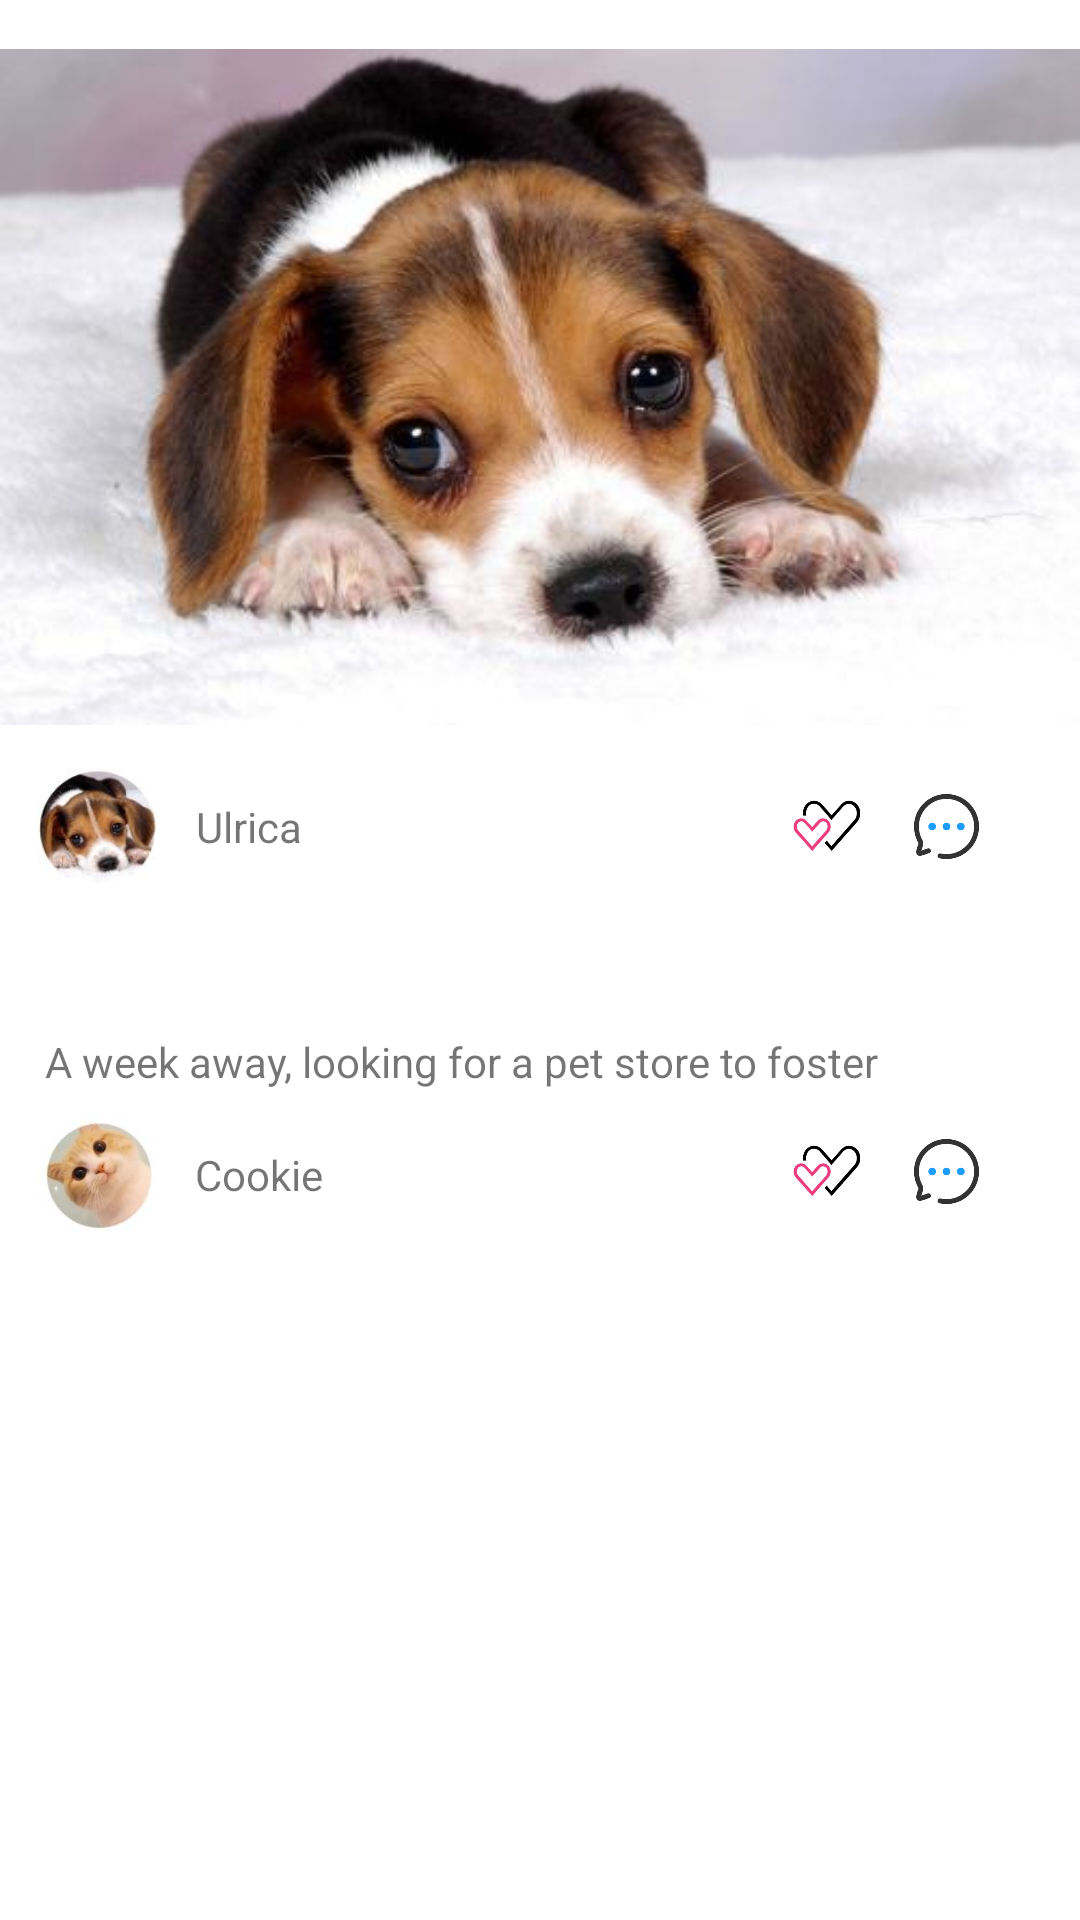

Named icons in this screenshot (1080w x 1920h) and their bounding boxes, (x1, y1, x2, y2):
chat: (914, 794, 979, 859), (914, 1139, 979, 1204)
head: (39, 771, 156, 874), (46, 1123, 151, 1228)
heart: (793, 800, 860, 851), (793, 1145, 860, 1196)
